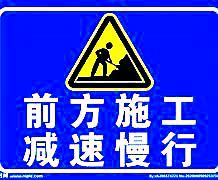sign: (2, 4, 215, 176)
